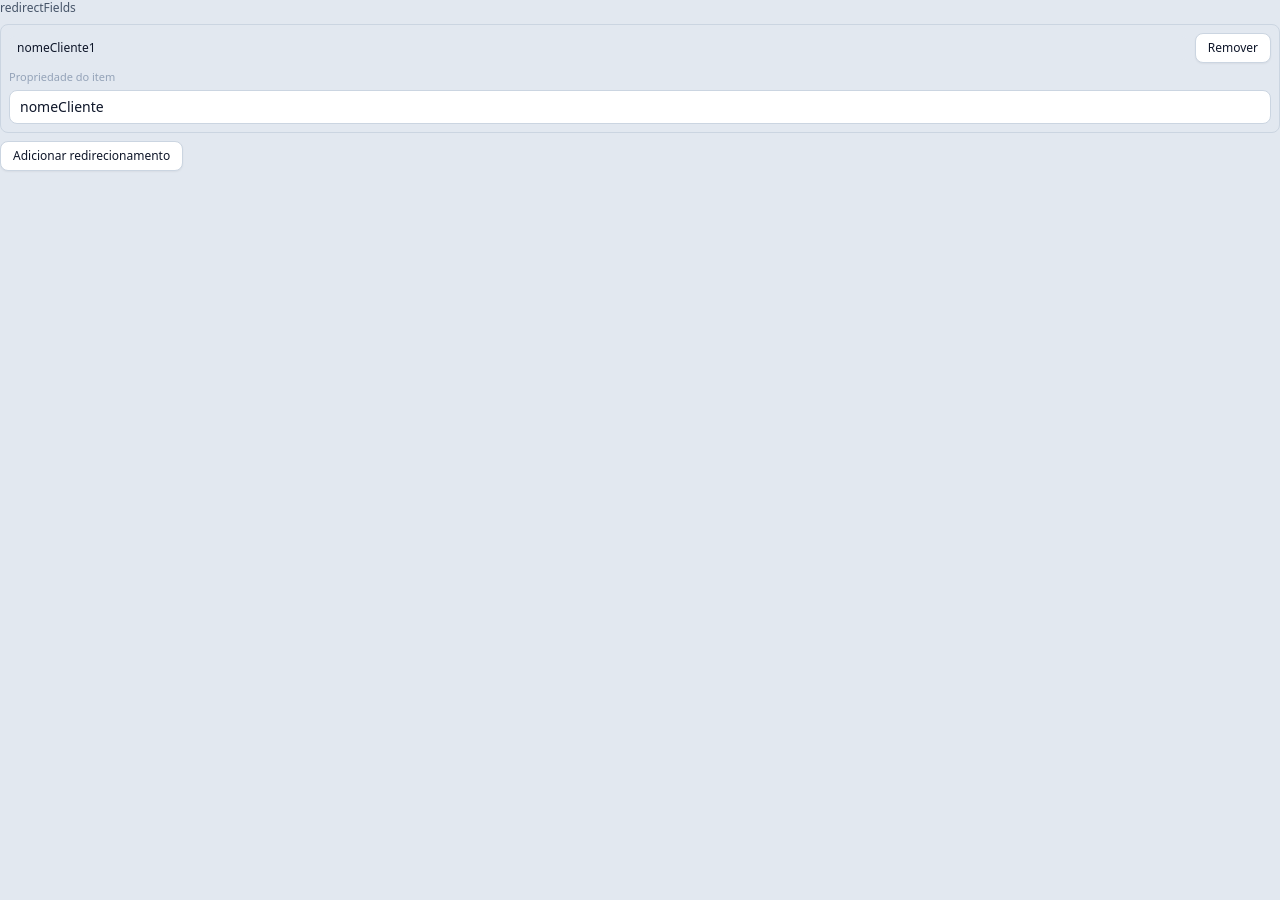
it: RedirectFieldsEditor › chaves ja usadas aparecem desabilitadas no picker ao adicionar
Click the button "Adicionar redirecionamento" at (92, 156), box [0,140,183,170]
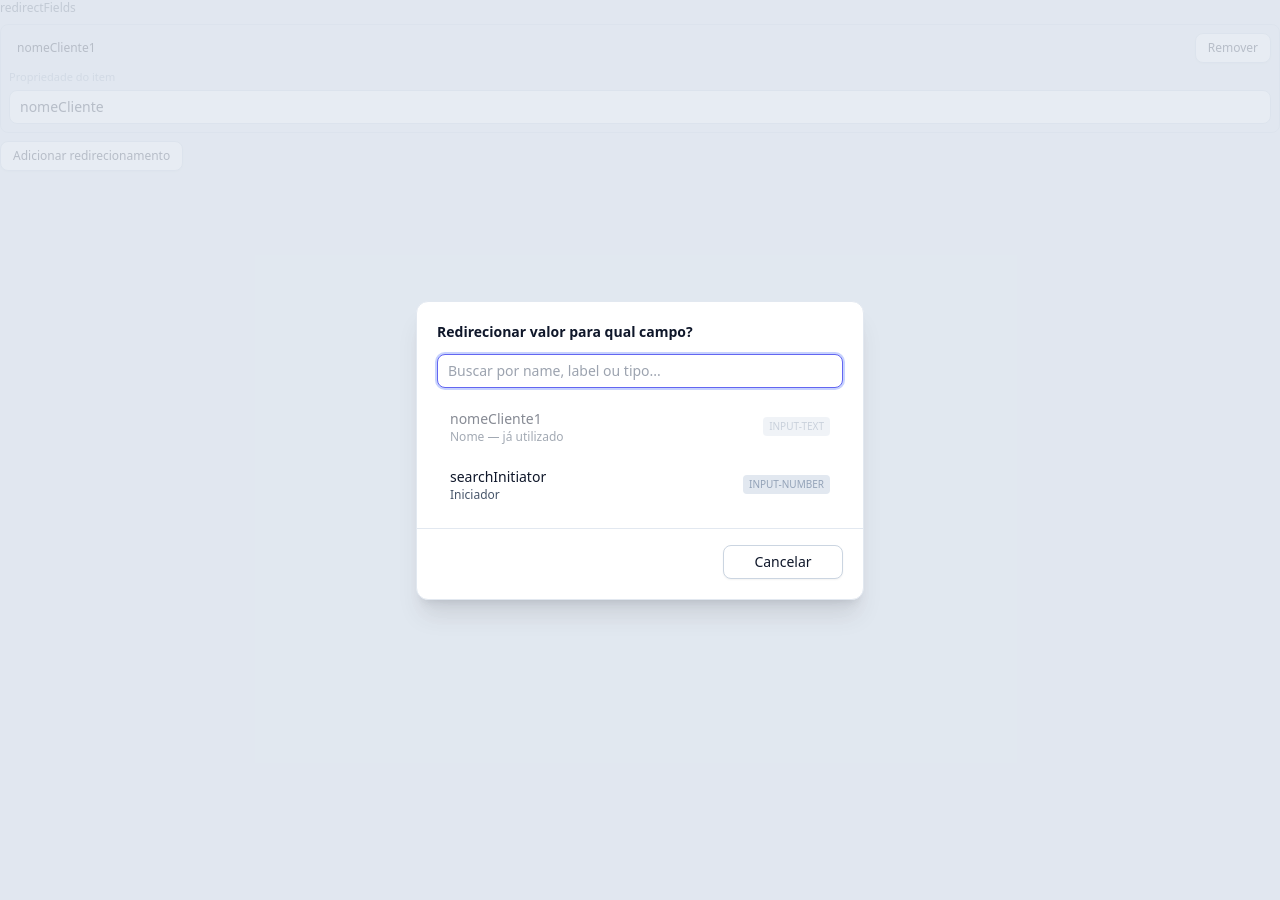
Check: the button "nomeCliente1" is disabled, box [437,400,843,454]
